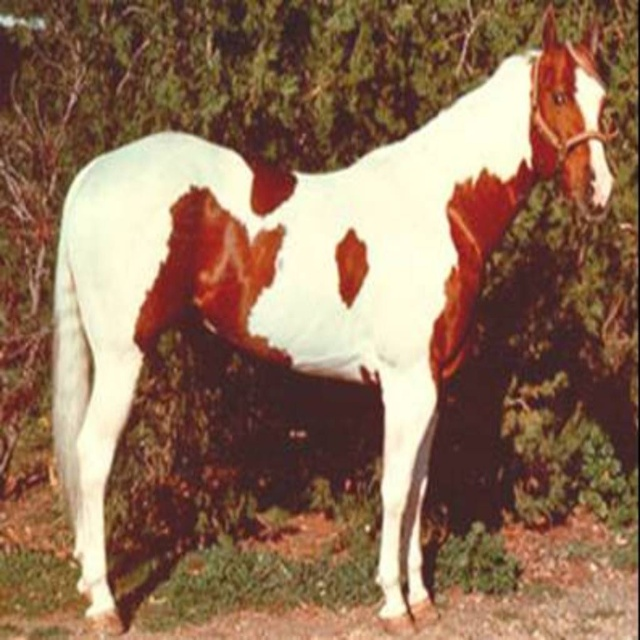Horse: (53, 2, 616, 638)
